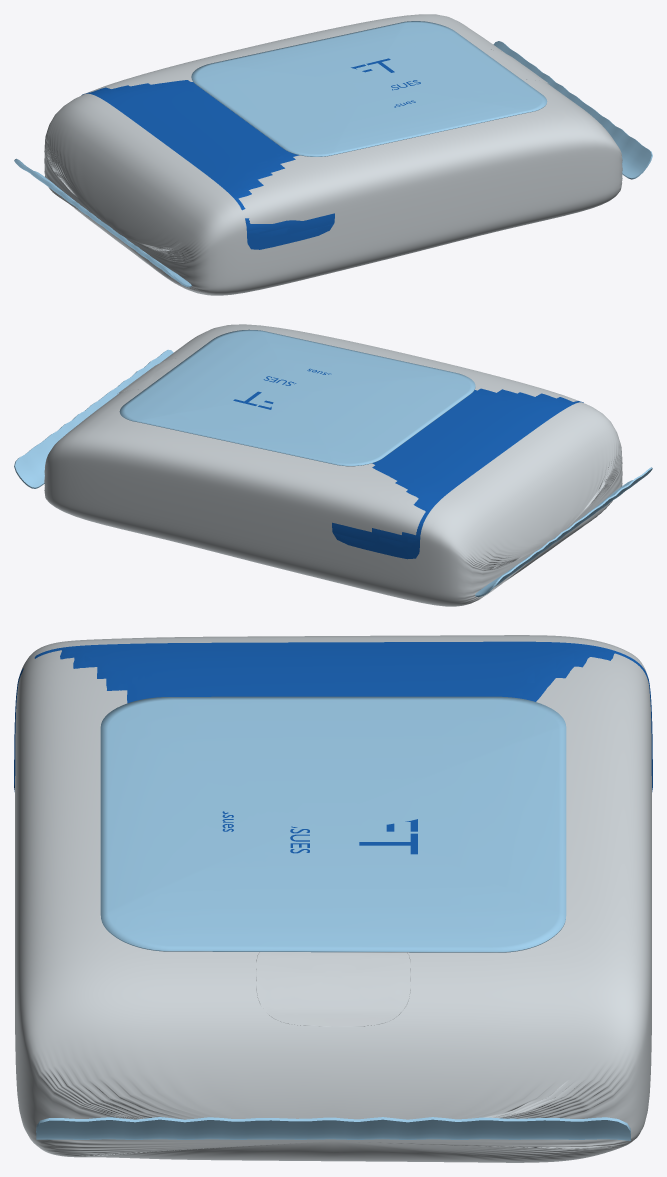
Rendered from tissue_pack.glb.
3 renders of one model, top to bottom at view 1: azimuth 30°, elevation 25°; view 2: azimuth 150°, elevation 25°; view 3: azimuth 270°, elevation 25°, orthographic. The views are drawn at different scales.
Visible parts, largest first — view 1: Soft sealed packet_export, Resealable dispensing flap_export, Blue wrapper band_export, Heat sealed end.001_export, Heat sealed end_export, Lift tab_export; view 2: Soft sealed packet_export, Resealable dispensing flap_export, Blue wrapper band_export, Heat sealed end.001_export, Heat sealed end_export, Lift tab_export; view 3: Soft sealed packet_export, Resealable dispensing flap_export, Blue wrapper band_export, Heat sealed end.001_export, Lift tab_export.
Part boxes in pixels (box(x1,y1,x2,y2)): Soft sealed packet_export: box(44, 14, 622, 295); Resealable dispensing flap_export: box(191, 21, 547, 156); Blue wrapper band_export: box(81, 80, 334, 249); Heat sealed end.001_export: box(493, 41, 652, 179); Heat sealed end_export: box(14, 158, 191, 287); Lift tab_export: box(481, 49, 549, 84); Soft sealed packet_export: box(44, 324, 622, 606); Resealable dispensing flap_export: box(119, 329, 475, 466); Blue wrapper band_export: box(332, 388, 583, 559); Heat sealed end.001_export: box(14, 349, 173, 488); Heat sealed end_export: box(475, 467, 652, 596); Lift tab_export: box(117, 358, 185, 393); Soft sealed packet_export: box(15, 635, 651, 1162); Resealable dispensing flap_export: box(100, 696, 566, 952); Blue wrapper band_export: box(14, 641, 652, 791); Heat sealed end.001_export: box(36, 1117, 630, 1140); Lift tab_export: box(256, 952, 410, 1026).
Size of the model in its own units: 0.122 by 0.0266 by 0.0742.
